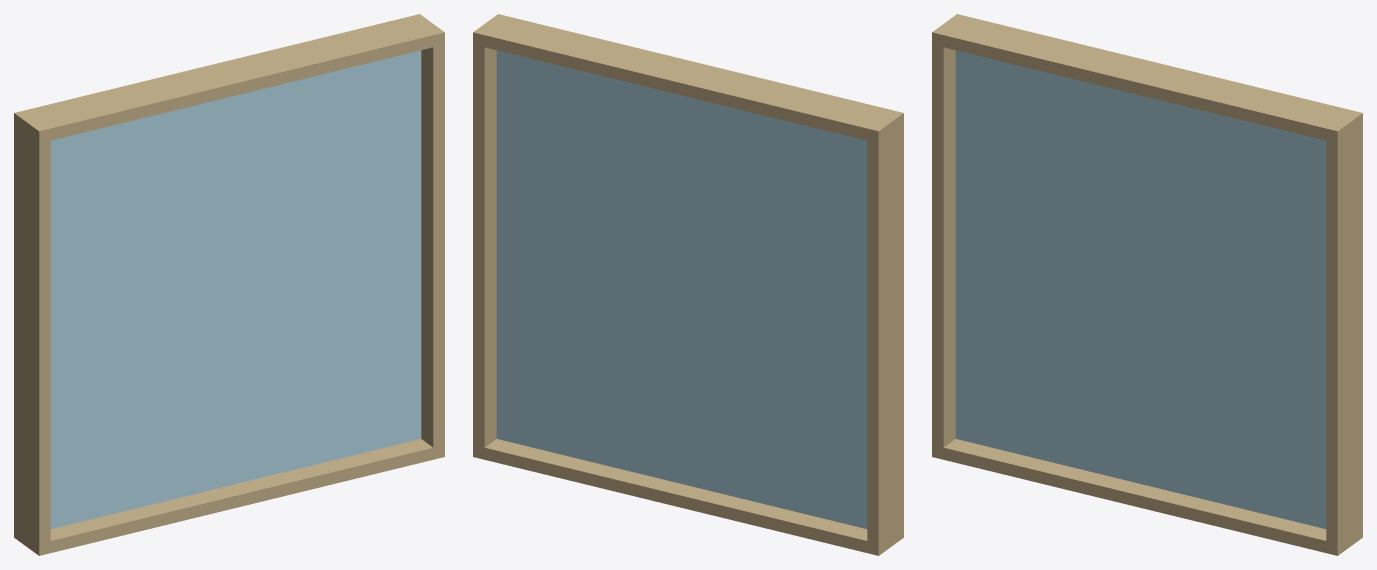
File: janela_140x140.glb
3 renders of one model, left to right at view 1: azimuth 30°, elevation 25°; view 2: azimuth 150°, elevation 25°; view 3: azimuth 330°, elevation 25°, orthographic.
Visible parts, largest first — view 1: janela_140x140; view 2: janela_140x140; view 3: janela_140x140.
Part boxes in pixels (box(x1,y1,x2,y2)): janela_140x140: box(14, 14, 444, 555); janela_140x140: box(473, 14, 903, 555); janela_140x140: box(932, 14, 1362, 555).
Bounding box in the file's own units: 1.4 × 1.4 × 0.15.
